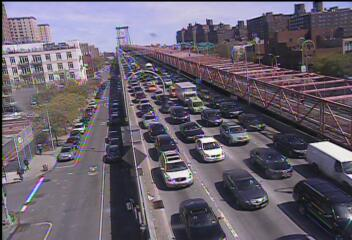neg: (109, 110, 143, 156), (231, 97, 262, 139), (227, 186, 258, 227), (69, 99, 92, 130), (94, 28, 116, 57), (305, 71, 327, 100), (128, 166, 148, 193), (162, 91, 179, 113), (173, 46, 187, 64), (38, 161, 51, 178)
pos: (11, 166, 22, 181), (22, 156, 32, 170), (34, 141, 44, 154)
